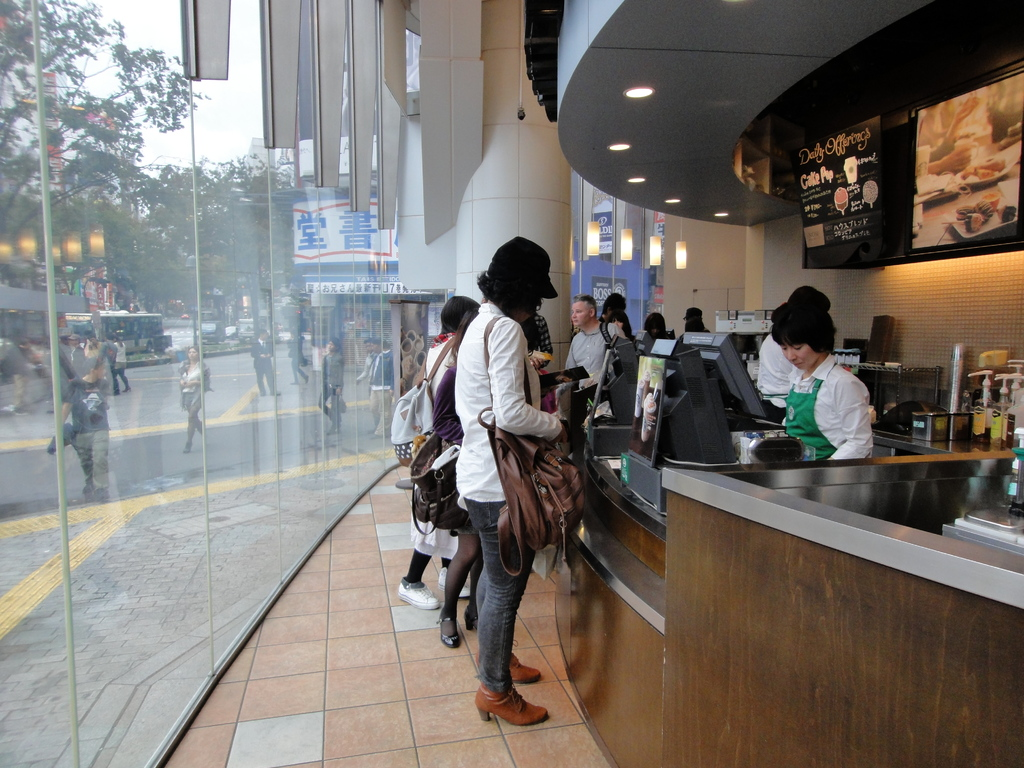Footwear: (468, 671, 548, 744), (477, 648, 543, 681), (397, 575, 442, 611), (440, 567, 476, 599), (439, 612, 457, 648)
